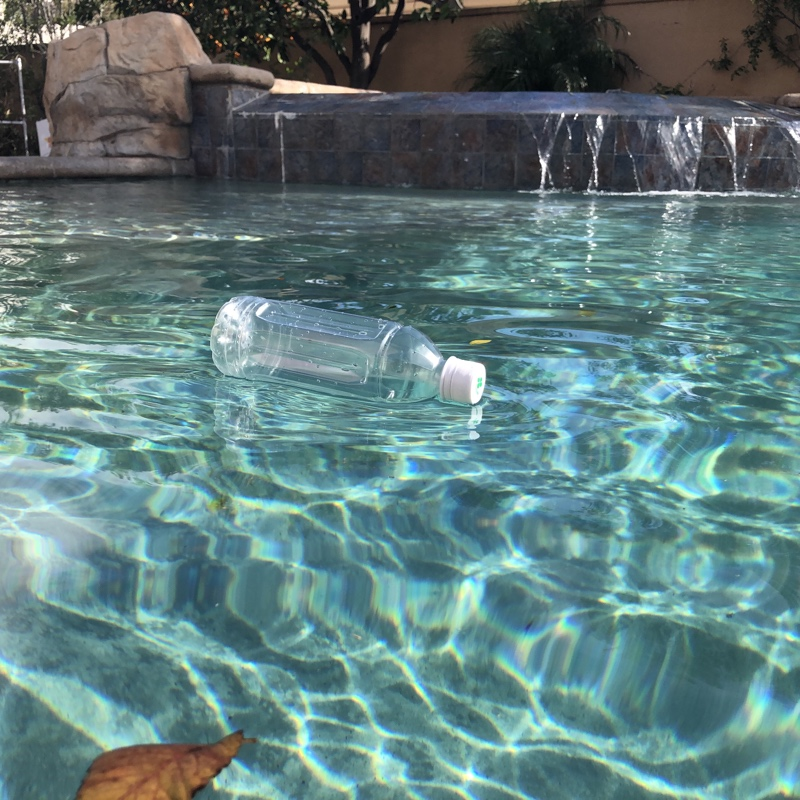Plastic Bottle: (205, 286, 495, 414)
